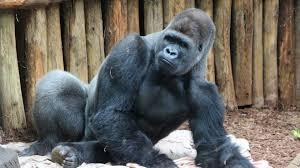gorille_Autres: (20, 5, 259, 160)
